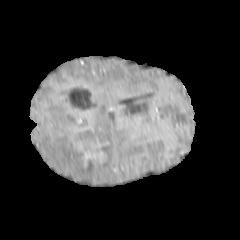glioma: (41, 107, 128, 181)
